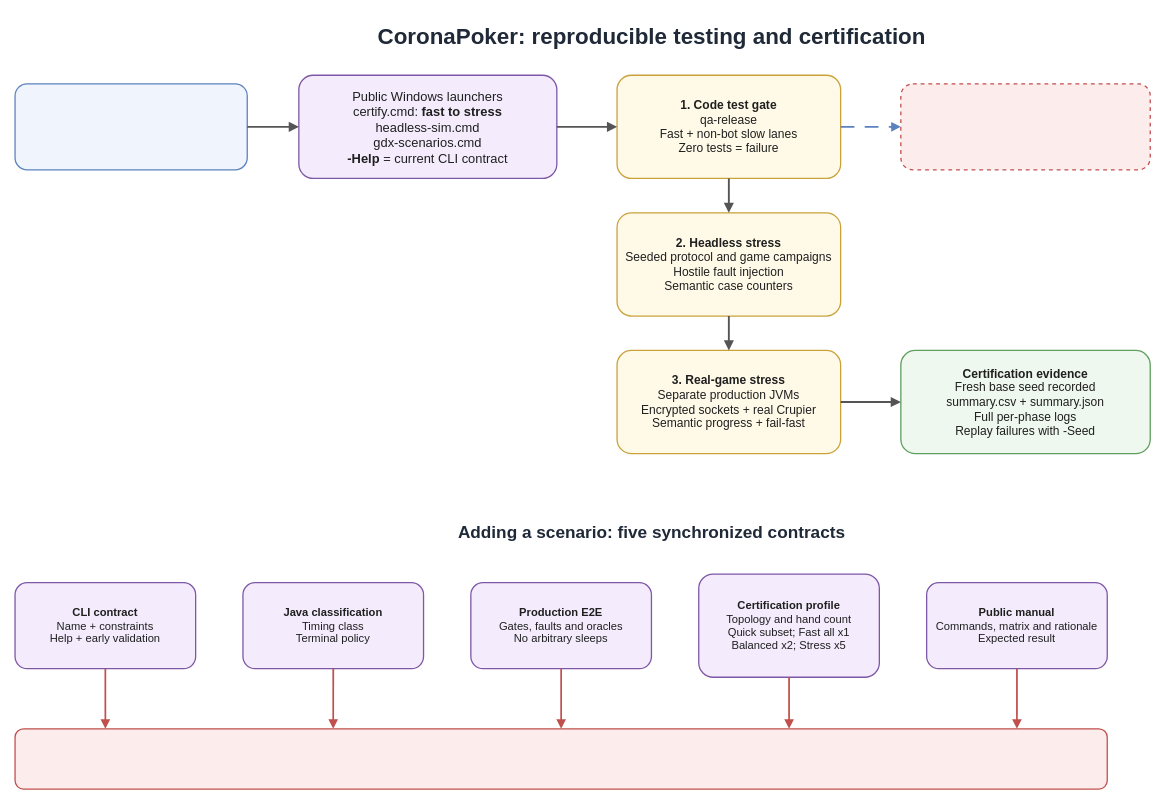
The diagram is 1166 pixels wide and 804 high, and some of its shapes have lost their labels. The centre of each missing label's shape, as x and y in pixels:
"Bot statistical quality Separate opt-in lane -IncludeBotQuality" belongs at [1025,126].
"Clean checkout JDK 17+ and Maven No private paths or user cache" belongs at [131,126].
"GdxScenarioContractTest rejects catalogue, topology and documentation drift" belongs at [561,758].
